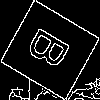B: (25, 25, 80, 77)
